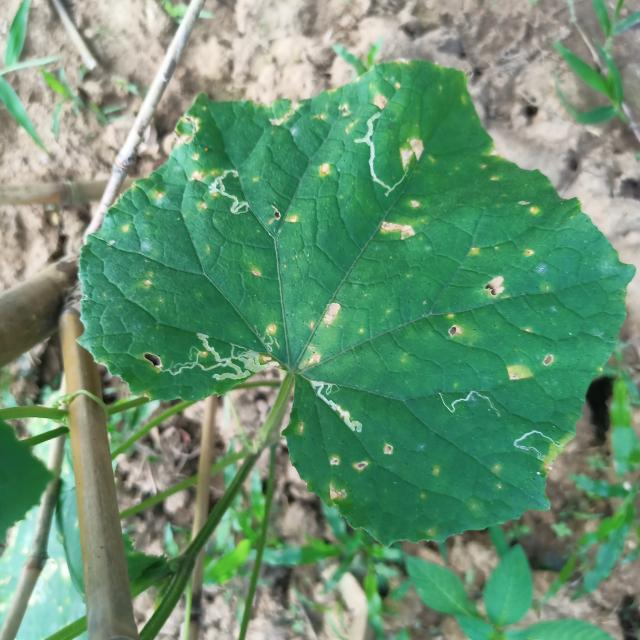disease_cucumber: (468, 241, 552, 302), (169, 113, 212, 213), (328, 441, 394, 506), (269, 96, 357, 136), (363, 57, 407, 107), (505, 346, 556, 386), (381, 198, 425, 243), (396, 135, 431, 169), (299, 338, 325, 371), (266, 205, 301, 228), (320, 300, 345, 332), (441, 313, 467, 343), (518, 198, 540, 220), (138, 268, 160, 290), (478, 164, 501, 185), (492, 463, 506, 487), (319, 159, 334, 180), (151, 189, 167, 206), (260, 353, 273, 364), (266, 322, 276, 335)
